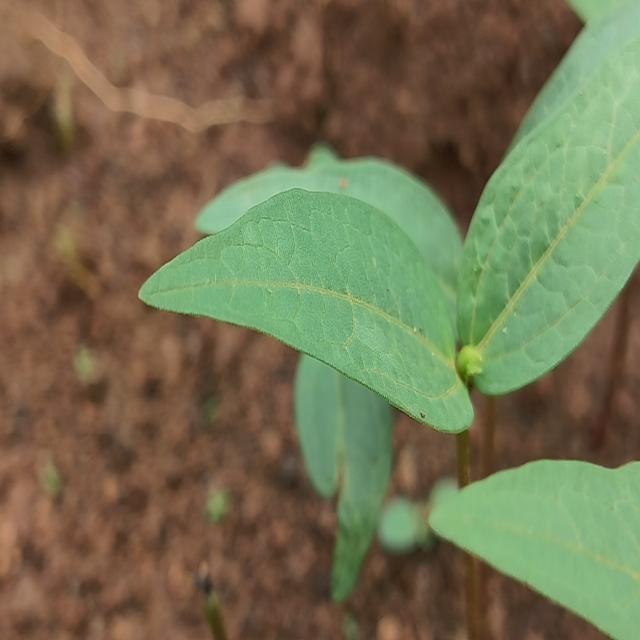Black gram_healthy: (133, 183, 480, 431), (456, 38, 640, 394), (428, 451, 640, 640)
